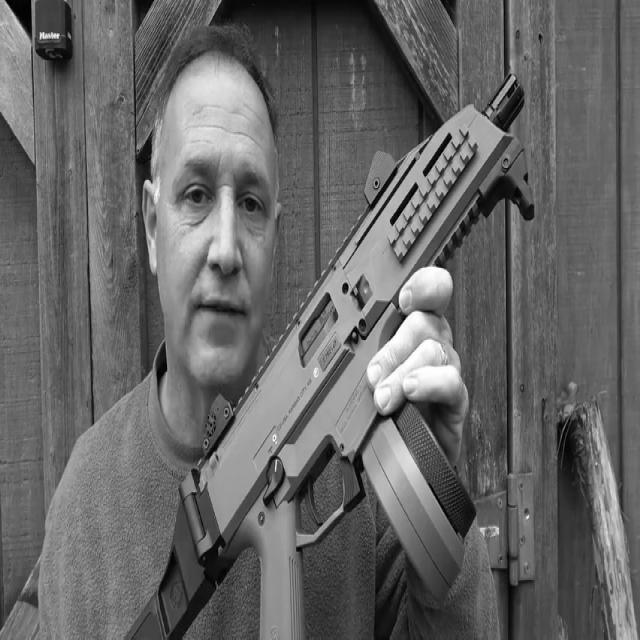Sub-machine-gun: (102, 0, 564, 640)
